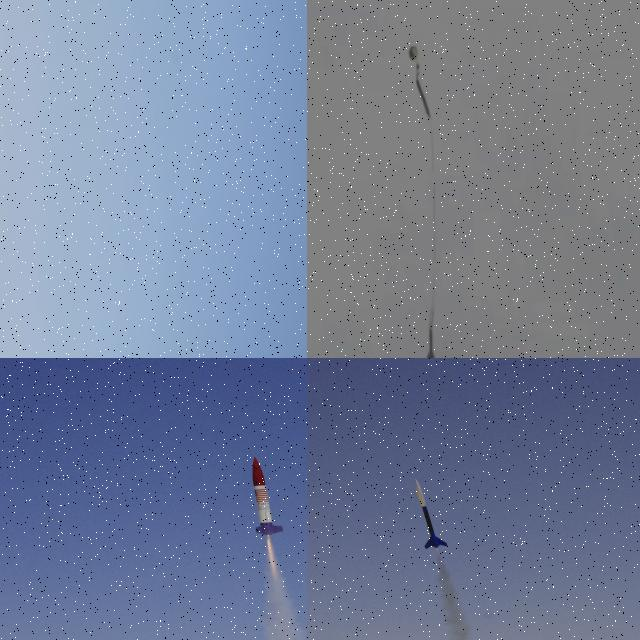Rocket: (252, 456, 284, 536), (415, 478, 448, 549), (425, 324, 435, 358)
